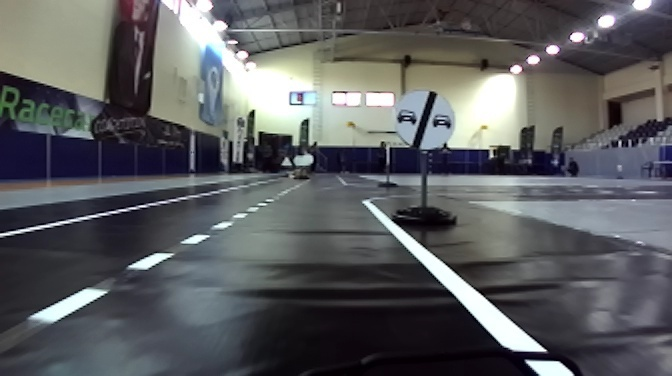sollama_serbest: (394, 89, 456, 151)
